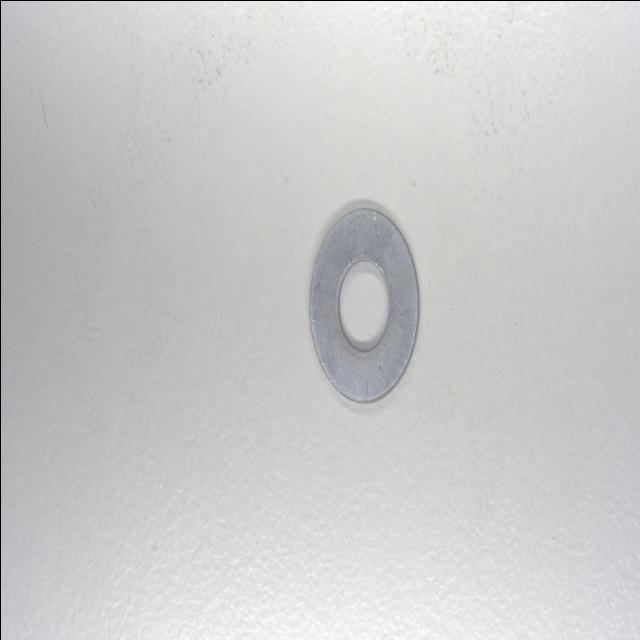washer: (306, 202, 421, 406)
